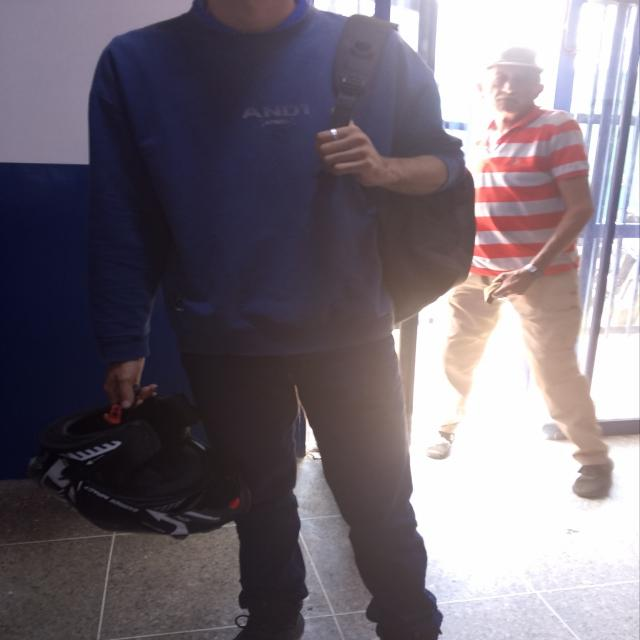pantalon_oscuro: (182, 340, 443, 640)
